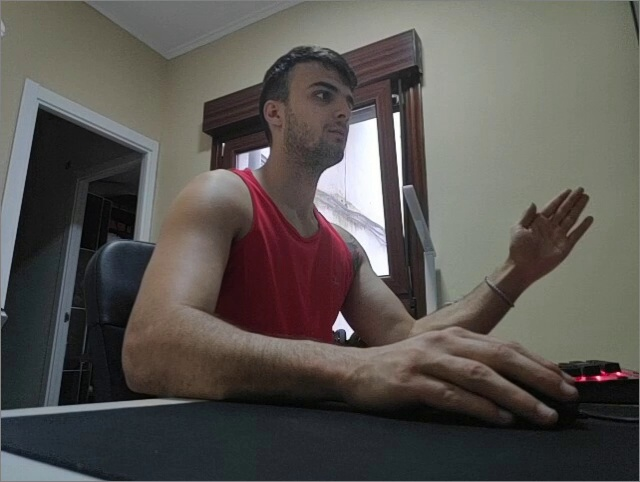Palm: (505, 183, 599, 282)
